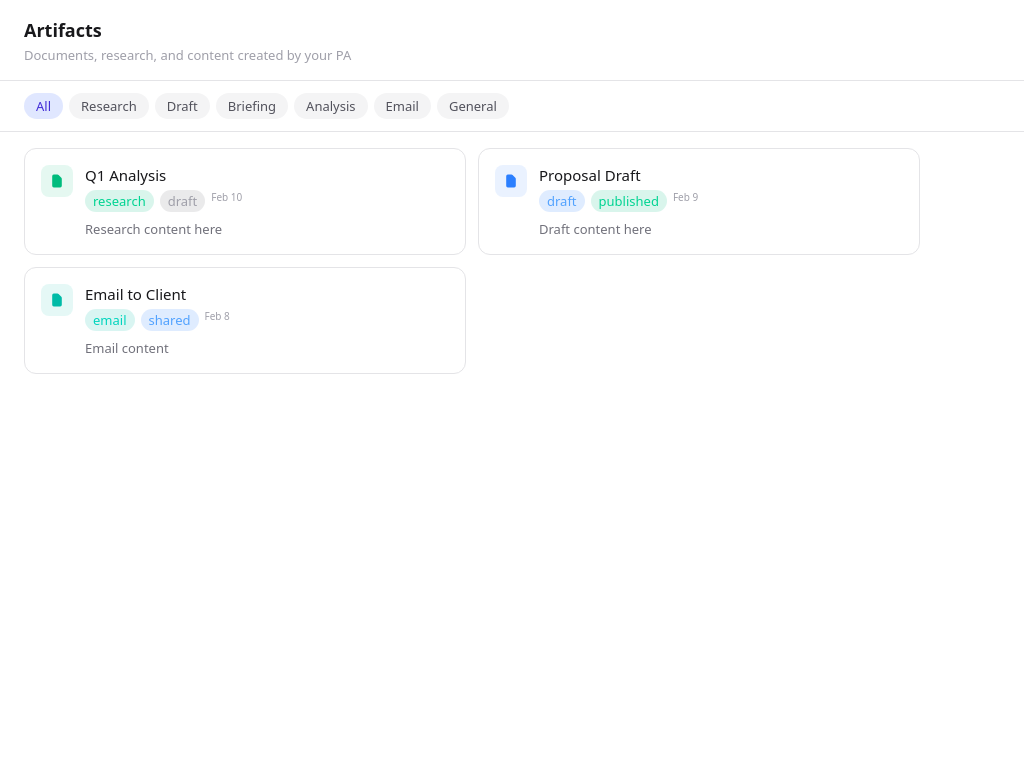
ArtifactsView › opens detail panel when artifact clicked
Click the button "Q1 Analysis research draft Feb 10 Research content here". click: x=245, y=202
box: [24,148,466,255]
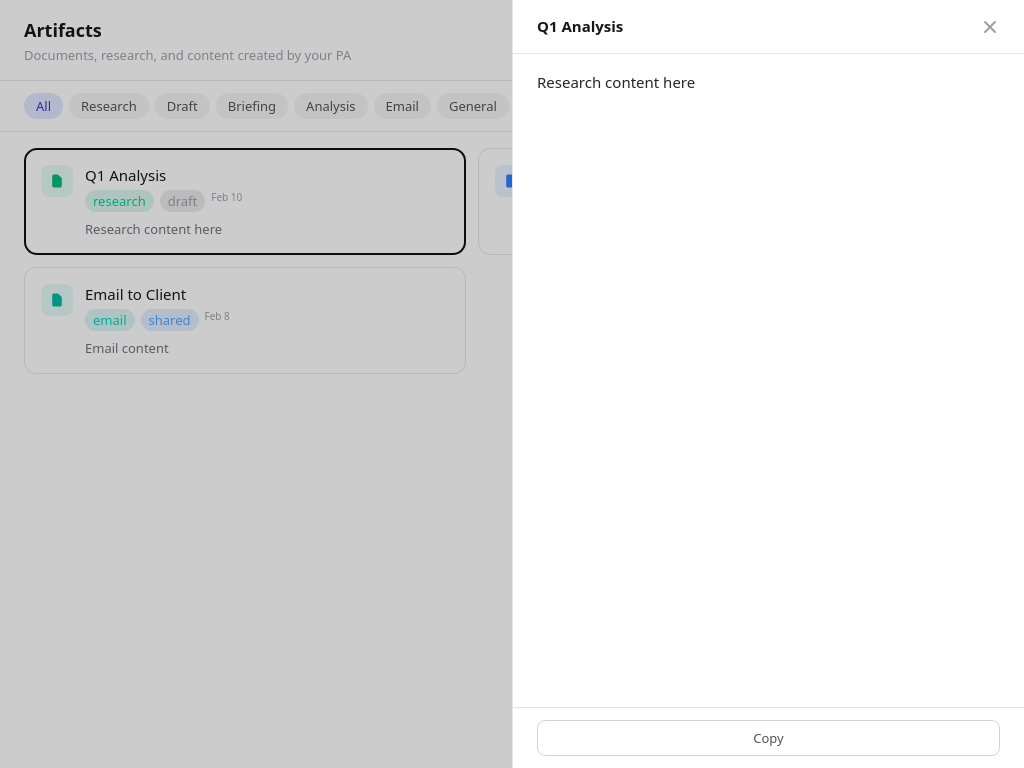
Expected: the button "Copy" is shown, [537,720,1000,756]
